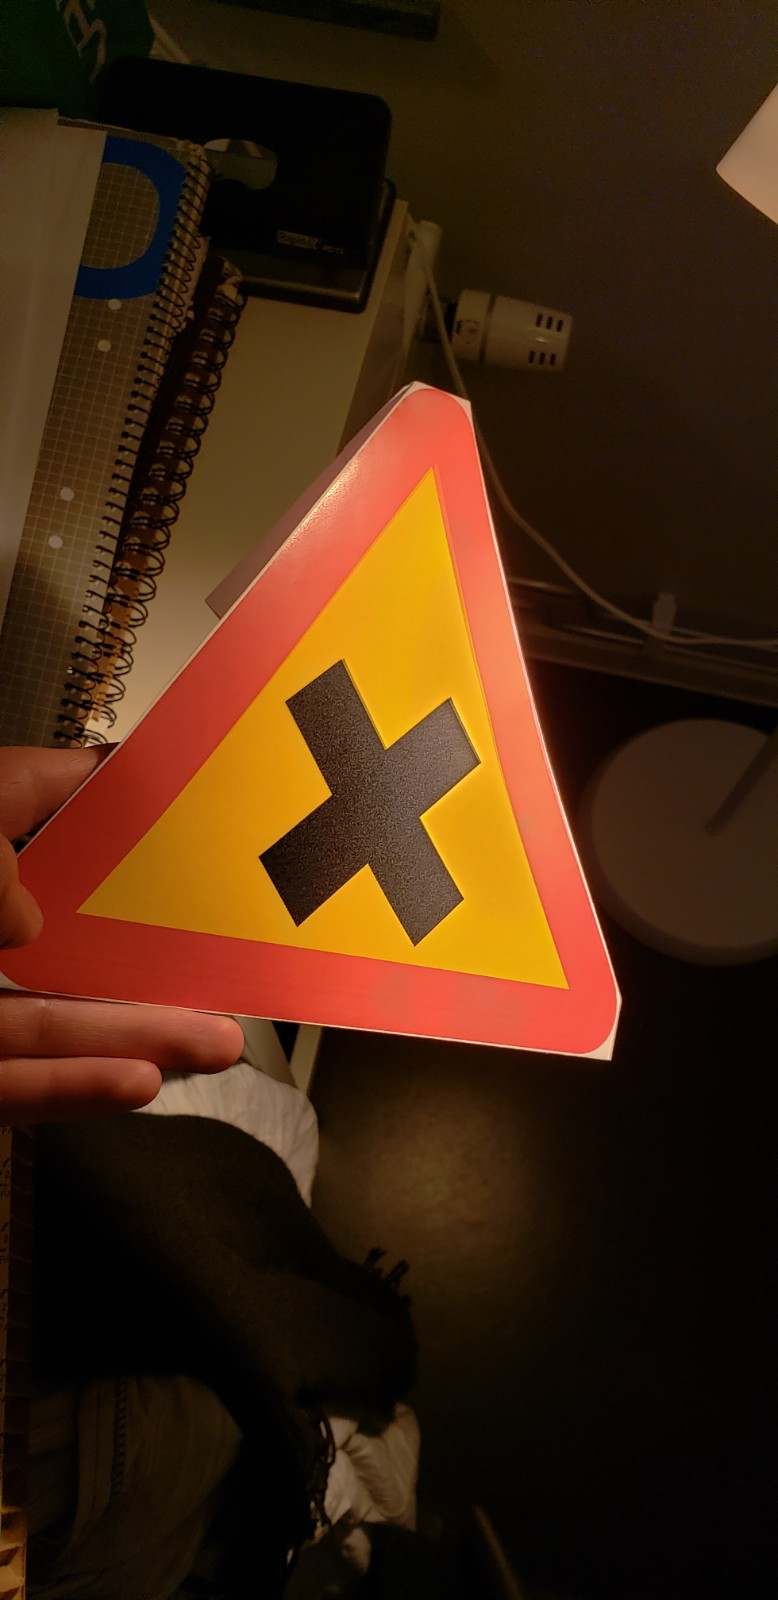junction: (29, 251, 667, 1109)
